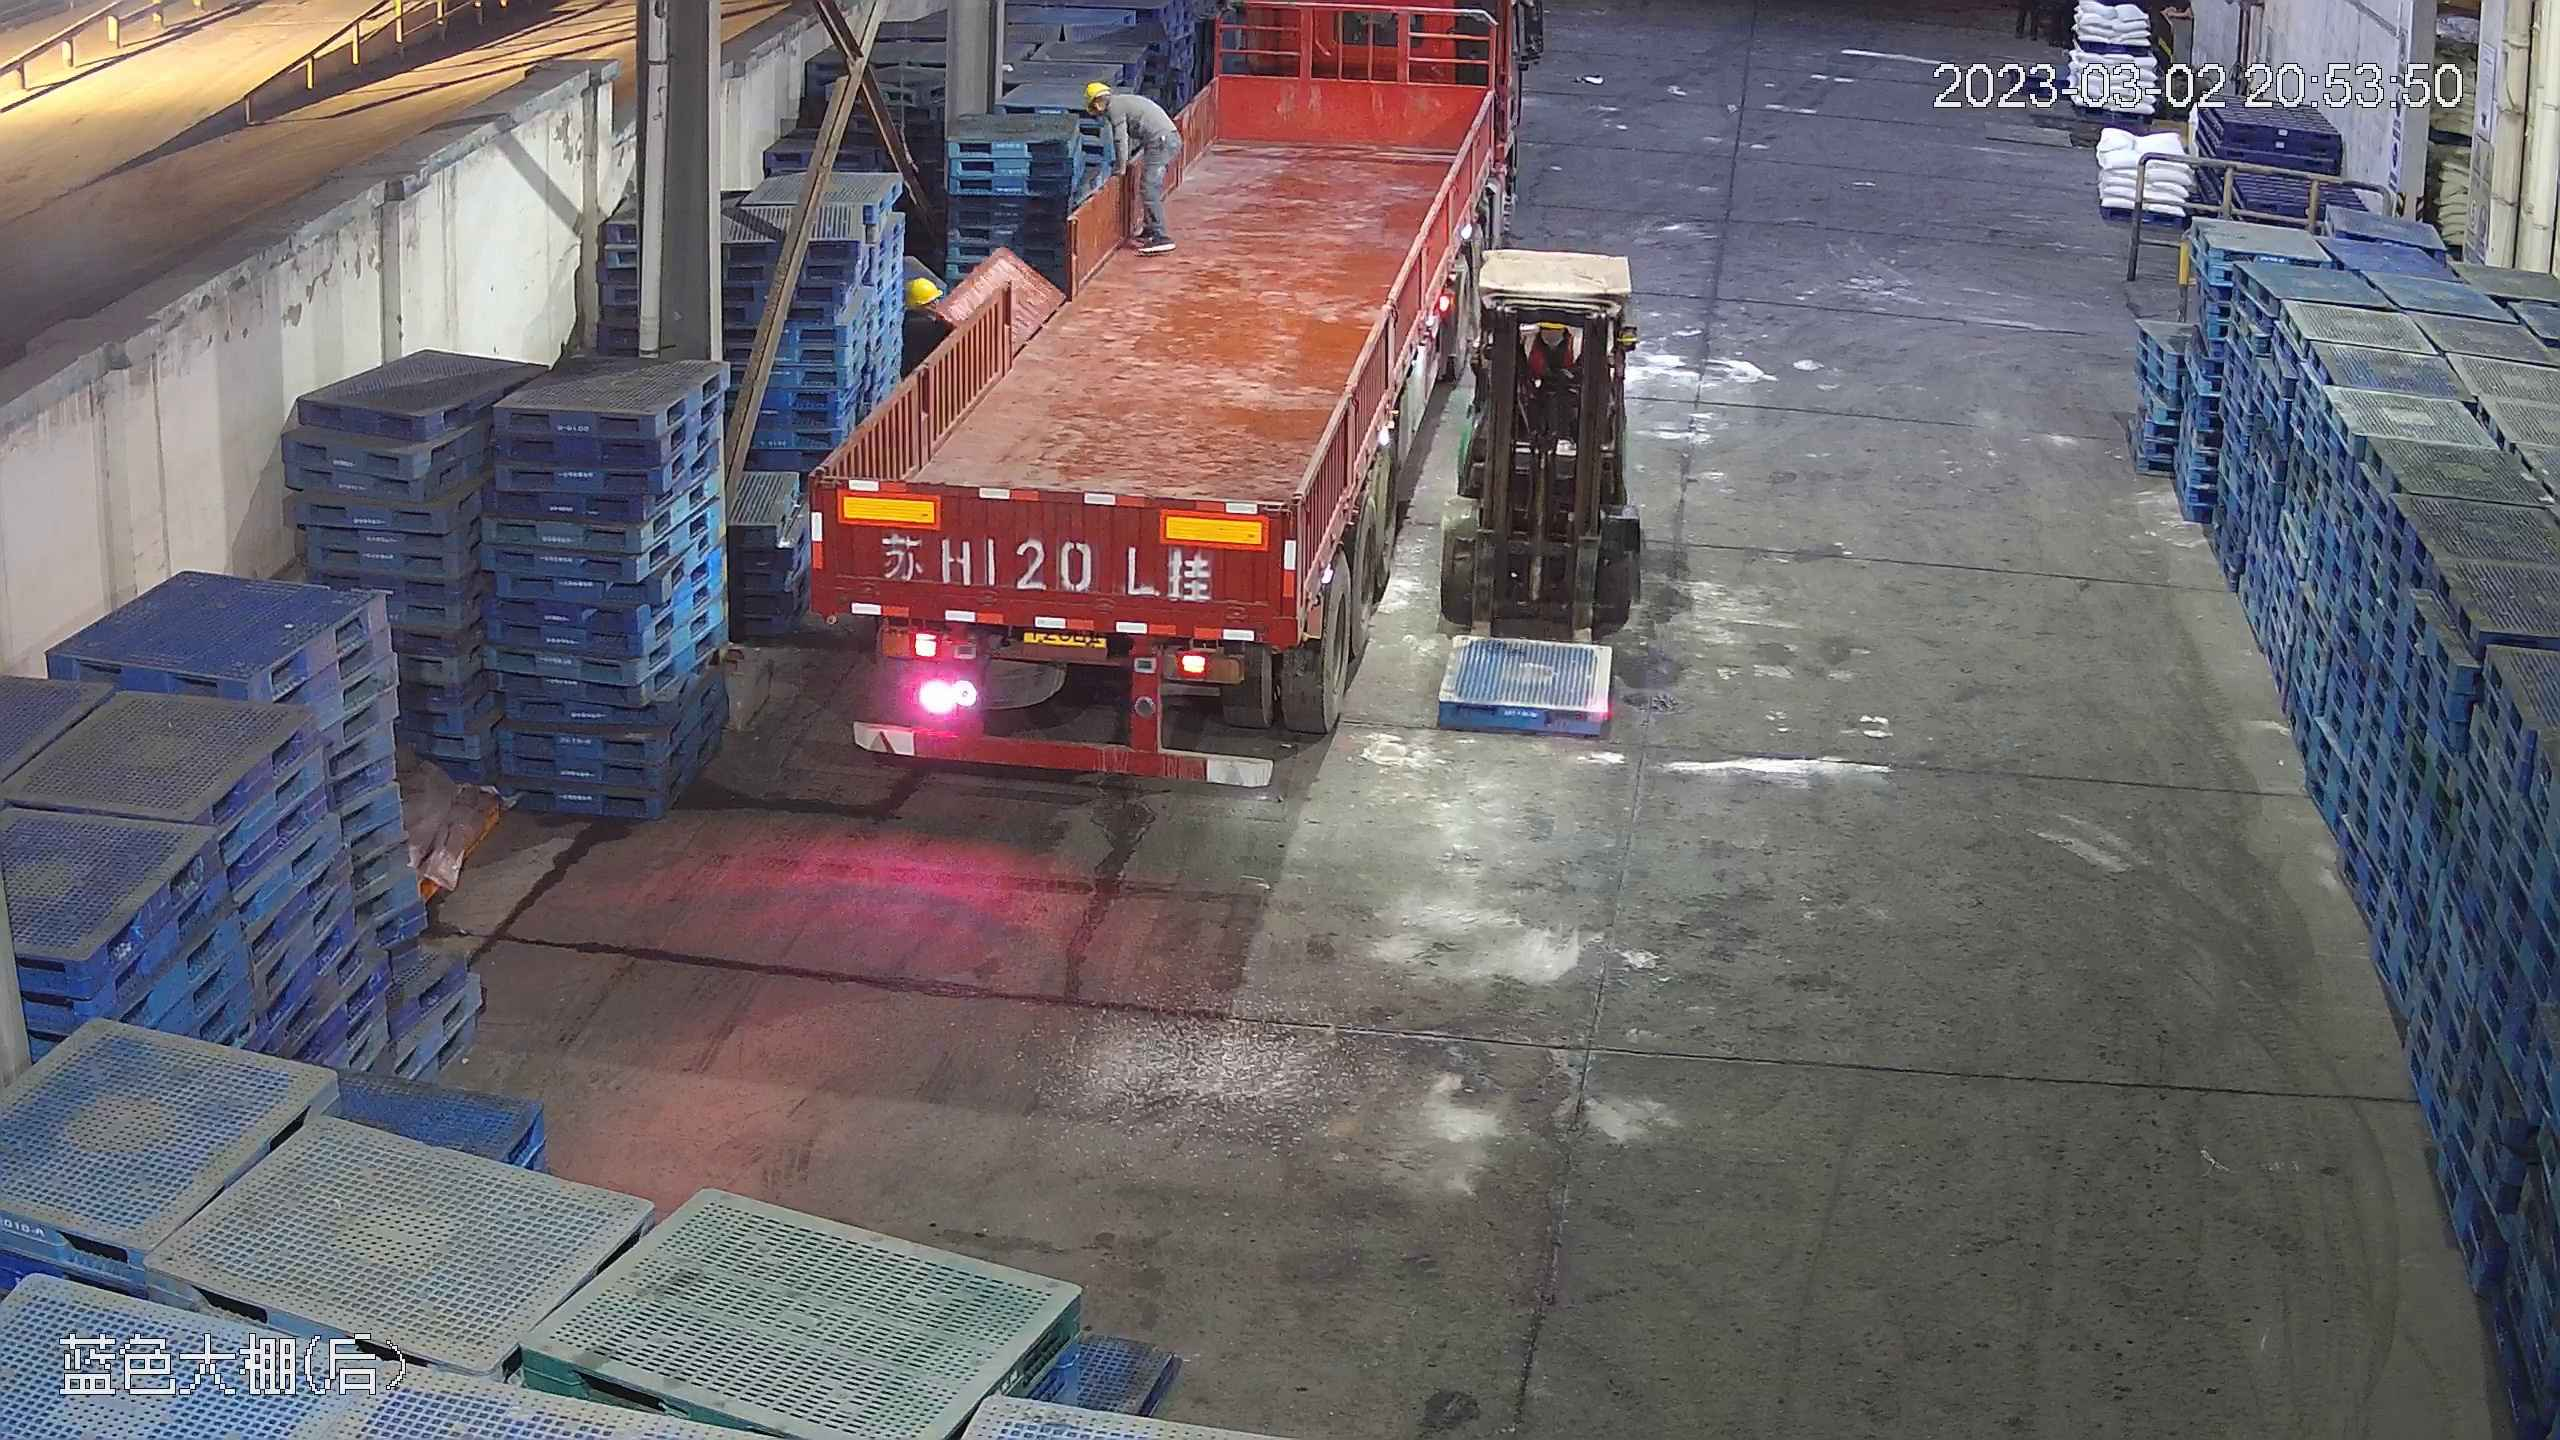head: (898, 277, 949, 344), (1081, 80, 1133, 132)
helmet: (905, 276, 938, 305), (1082, 79, 1109, 102)
people: (1081, 76, 1178, 246)
truck: (806, 6, 1529, 780)
